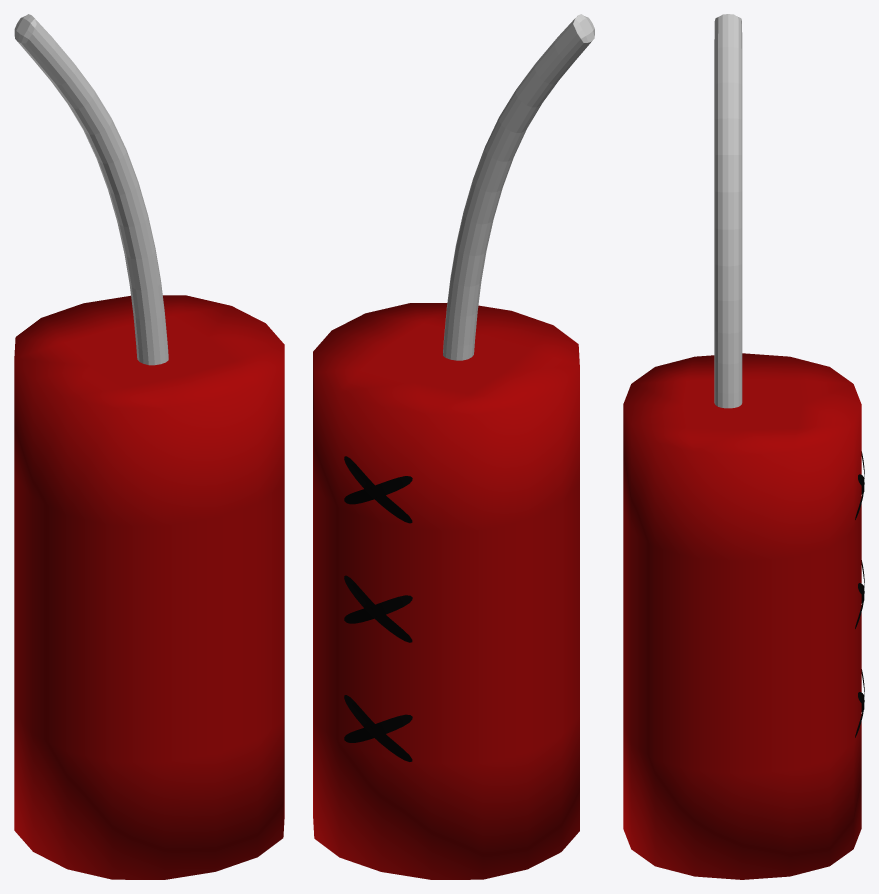
The model's file is dynamite-grand.obj.
3 renders of one model, left to right at view 1: azimuth 30°, elevation 25°; view 2: azimuth 150°, elevation 25°; view 3: azimuth 270°, elevation 25°, orthographic. The views are drawn at different scales.
Parts seen in each view (by area): view 1: DynamiteGrand_Cube.4119; view 2: DynamiteGrand_Cube.4119; view 3: DynamiteGrand_Cube.4119.
Boxes of the visible parts, <box> form: DynamiteGrand_Cube.4119: <box>14,14,284,879</box>; DynamiteGrand_Cube.4119: <box>313,14,594,879</box>; DynamiteGrand_Cube.4119: <box>623,14,864,879</box>.
Size of the model in its own units: 0.6208 by 1.95 by 0.563.
